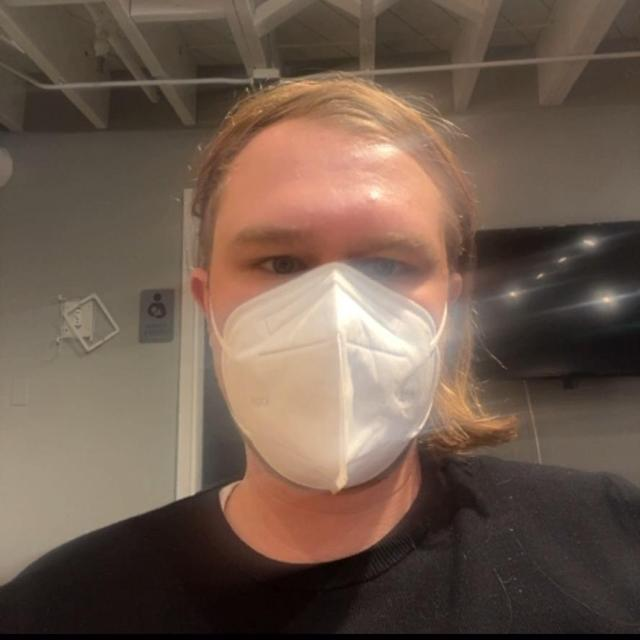no-helmet: (138, 63, 520, 574)
